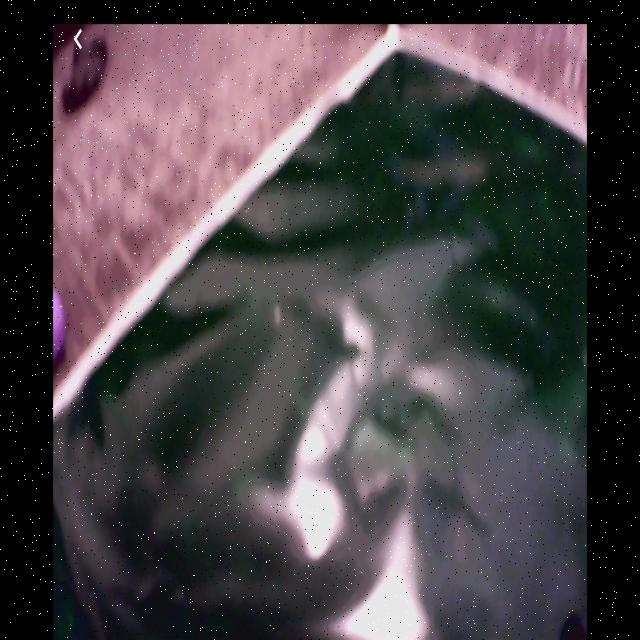ball: (54, 290, 66, 360)
